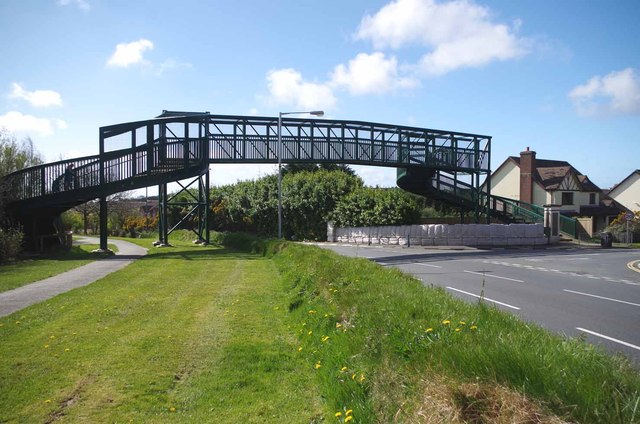bridge: (1, 108, 543, 220)
